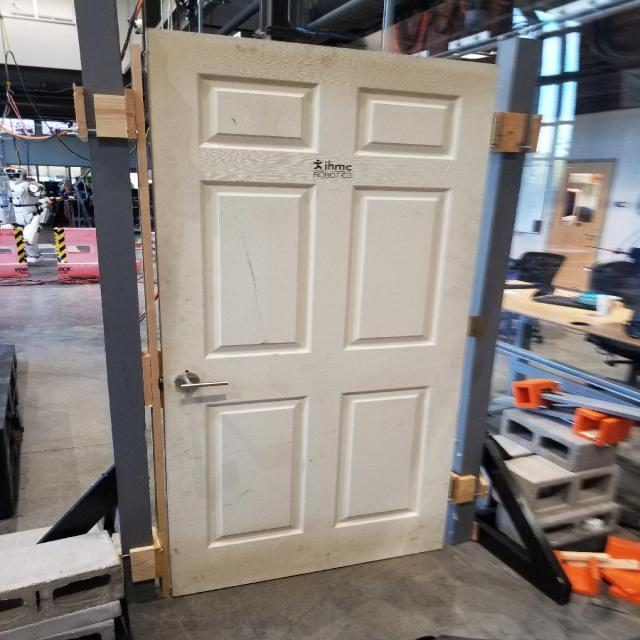door: (140, 24, 503, 602), (165, 371, 232, 392)
